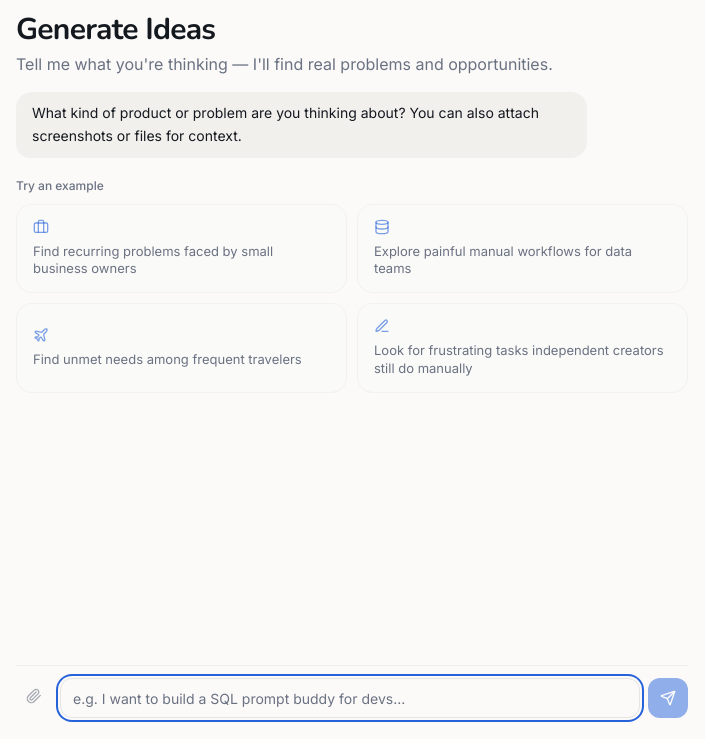
Scenario: GenerateIdeas starter chips › fills and focuses the composer with caret at end without AI, research, or credits
Step 1. Click the button "Find recurring problems faced by small business owners" → {"x": 182, "y": 248}, box 16,204 -> 347,293
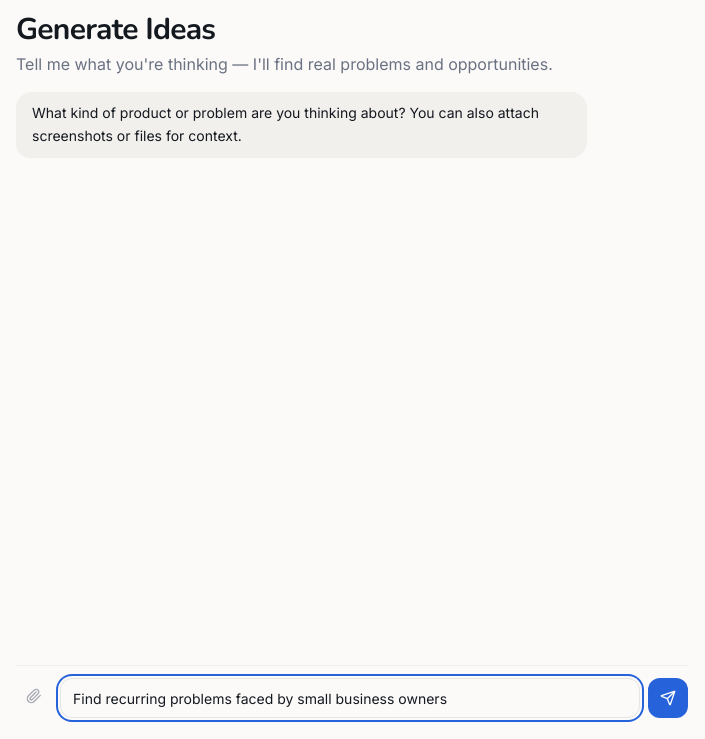
Check: the field with placeholder "e.g. I want to build a SQL prompt buddy for devs..." holds "Find recurring problems faced by small business owners", box 60,678 -> 640,718
